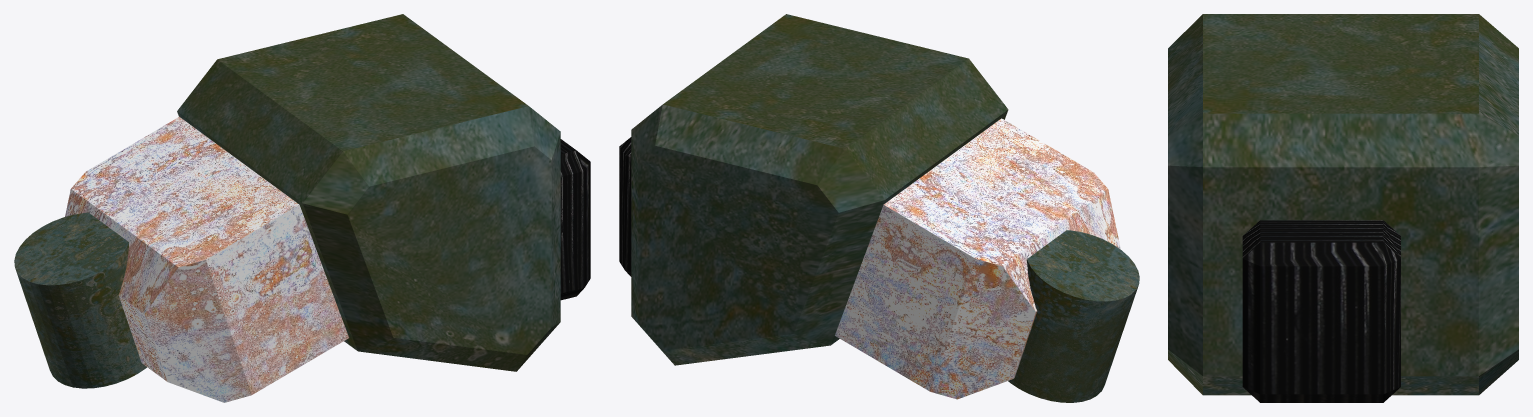
Rendered from brazo_sup_der.obj.
The picture shows the model from 3 angles, left to right: view 1: azimuth 30°, elevation 25°; view 2: azimuth 150°, elevation 25°; view 3: azimuth 270°, elevation 25°; orthographic projection. The views are drawn at different scales.
Visible parts, largest first — view 1: brazo_sup_der; view 2: brazo_sup_der; view 3: brazo_sup_der.
Part boxes in pixels (left/top/right/bottom): brazo_sup_der: left=14, top=14, right=590, bottom=402; brazo_sup_der: left=619, top=14, right=1139, bottom=402; brazo_sup_der: left=1168, top=14, right=1518, bottom=402.
Size of the model in its own units: 3.95 by 1.92 by 2.11.
Materials: 3 (3 with a texture image).
